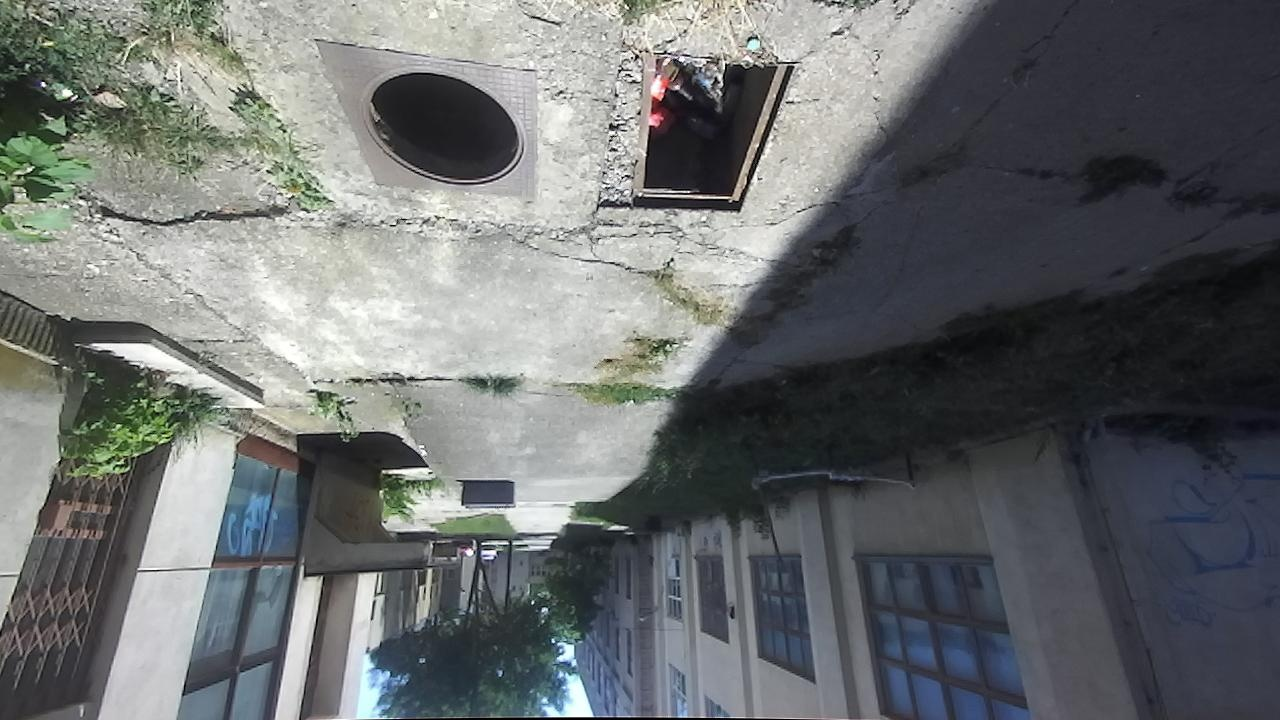drain: (623, 51, 808, 217), (356, 61, 528, 190)
